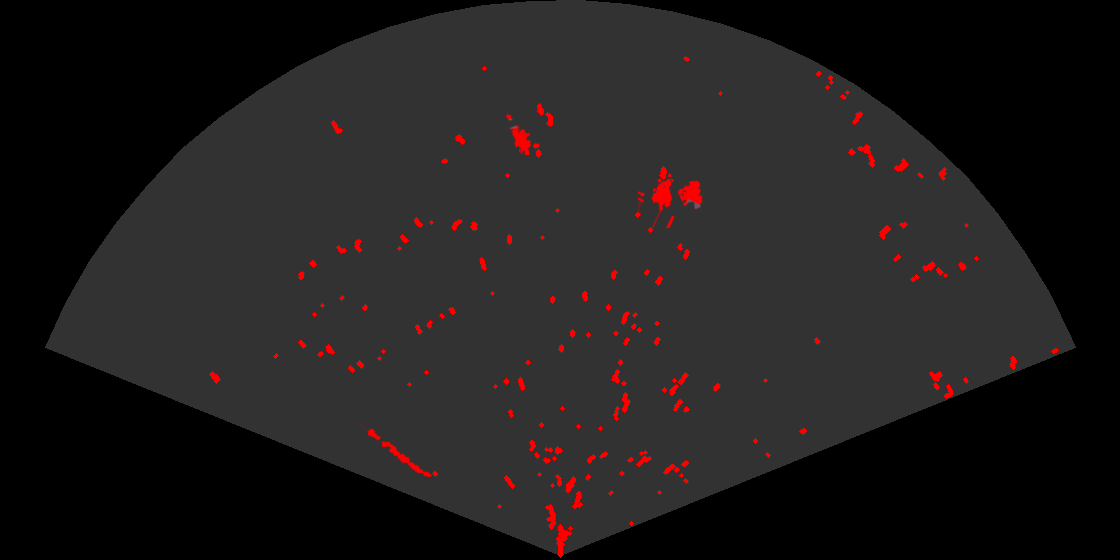cage: (638, 172, 704, 228)
chain: (356, 421, 433, 479)
frogman: (504, 111, 533, 155)
